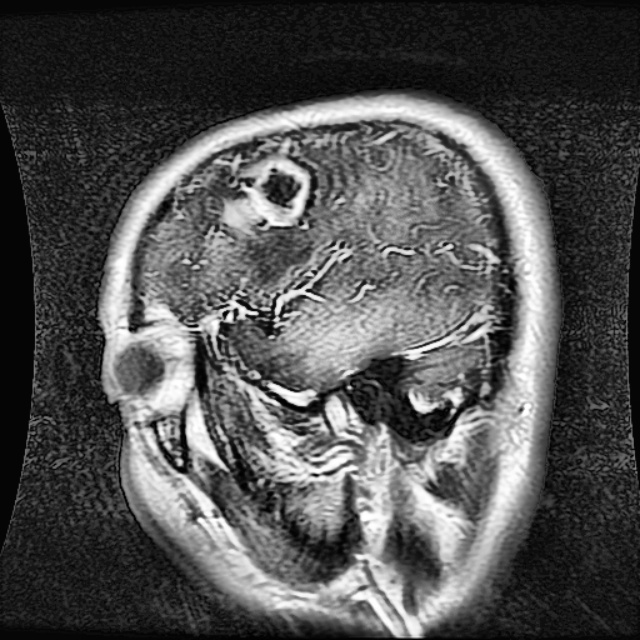Meningioma: (220, 154, 318, 227)
